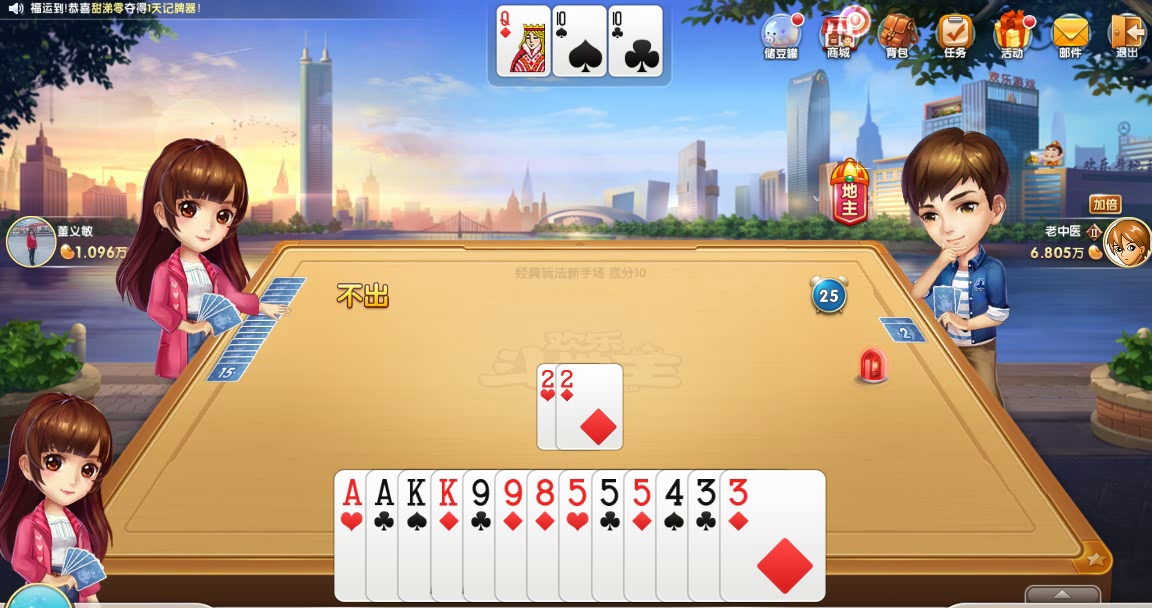10~2: (609, 2, 664, 77)
10~4: (552, 3, 607, 78)
12~1: (496, 3, 551, 78)
13~1: (431, 468, 538, 601)
13~4: (398, 468, 505, 601)
14~2: (366, 468, 473, 601)
14~3: (334, 467, 441, 600)
15~1: (556, 361, 624, 449)
15~3: (535, 362, 603, 450)
3~1: (720, 469, 827, 602)
3~2: (688, 469, 795, 602)
4~4: (655, 468, 762, 601)
5~1: (623, 468, 730, 601)
5~2: (591, 469, 698, 602)
5~3: (558, 467, 665, 600)
8~1: (527, 469, 634, 602)
9~1: (495, 468, 602, 601)
9~2: (462, 468, 569, 601)
